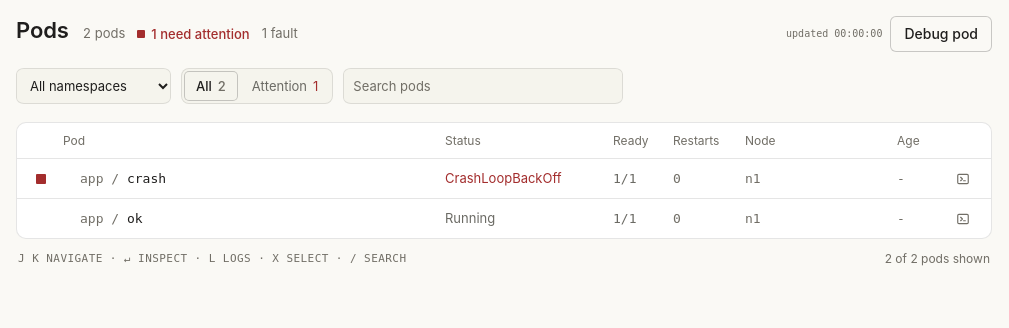
Scenario: Pods rows, mounted end to end (slice 3 §5.9) › A4 moves the global counts with the notice; the scoped line stays row-scoped, as of its capture
Select "app" in the dropdown named "Namespace": x=94, y=86 x1=16 y1=66 x2=171 y2=106
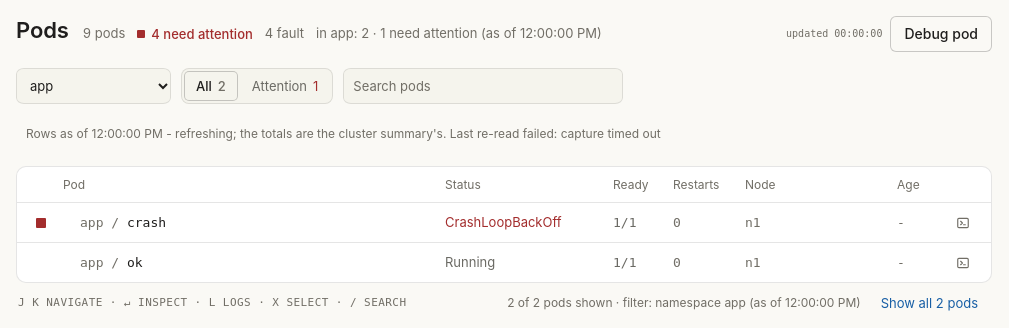
Expected: the element with test id "pods-attention" reads "4 need attention", x1=151 y1=26 x2=253 y2=42
Expected: the text with test id "pods-scoped" shows "in app: 2 · 1 need attention (as of", x1=316 y1=24 x2=602 y2=42
Expected: the message with test id "rows-refreshing" shows "Last re-read failed: capture timed out", x1=446 y1=126 x2=661 y2=141
